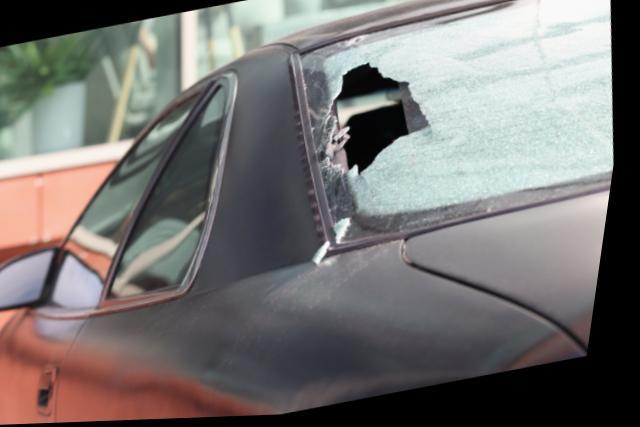glass shatter: (301, 0, 619, 247)
